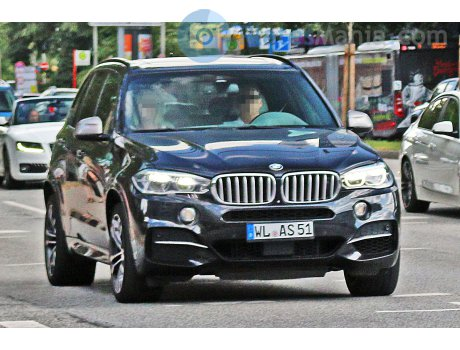License Plates: (251, 217, 312, 234)
